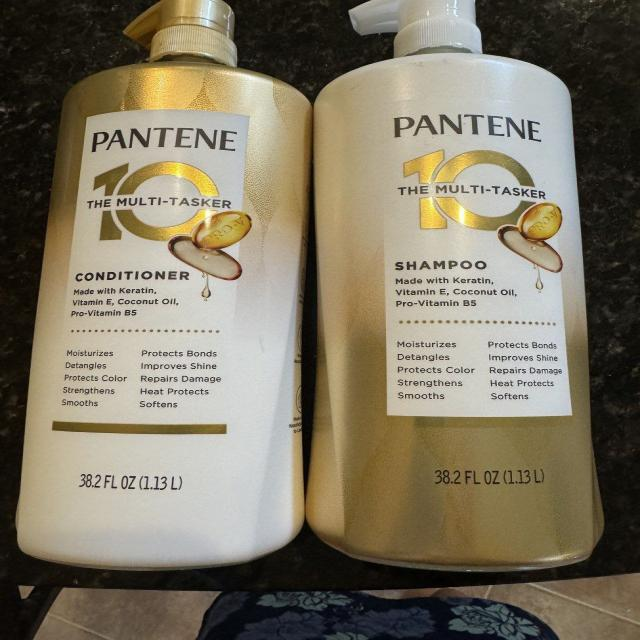cosmotic: (348, 87, 593, 514), (63, 88, 284, 507)
